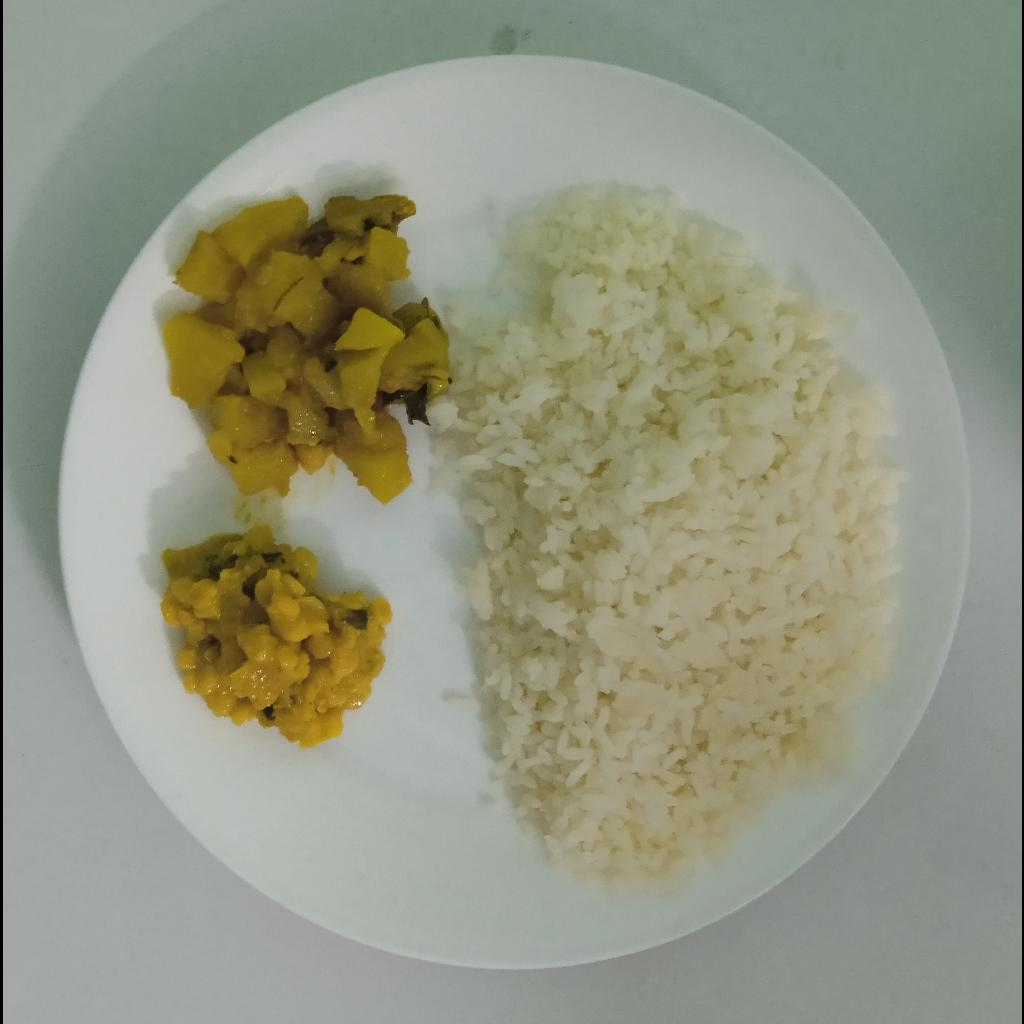daal: (157, 520, 392, 747)
kumra-vaji: (158, 192, 449, 509)
rice: (419, 188, 911, 901)
